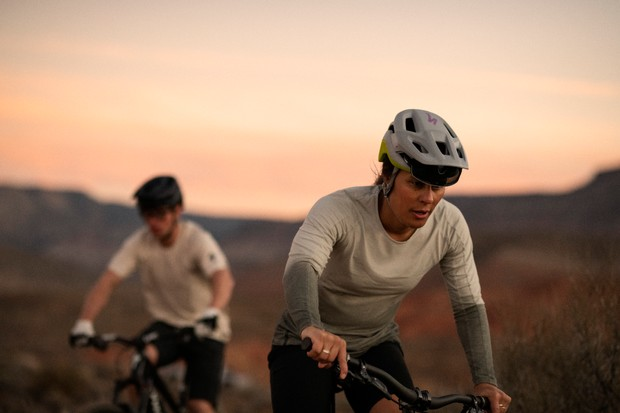helmet: (378, 109, 469, 228)
